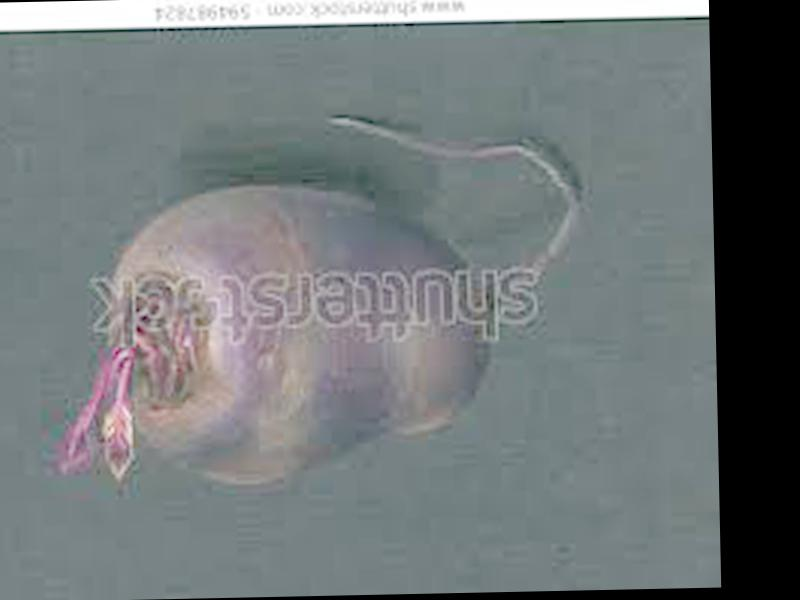Beet: (40, 113, 582, 490)
